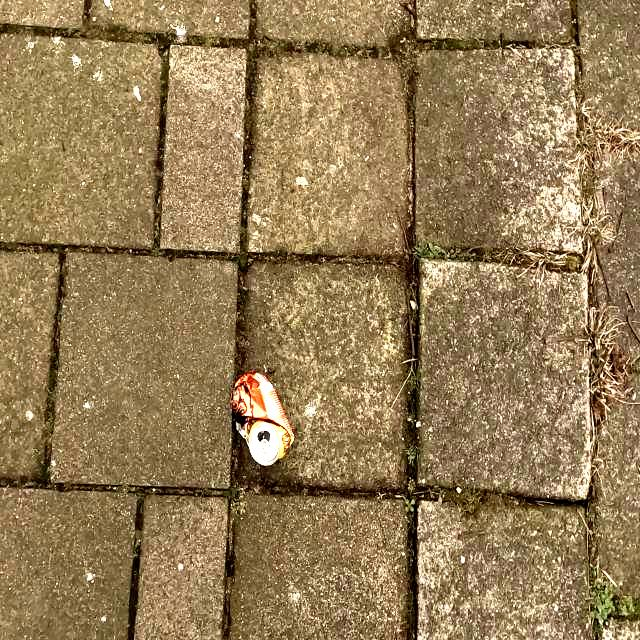Metal: (238, 374, 286, 454)
